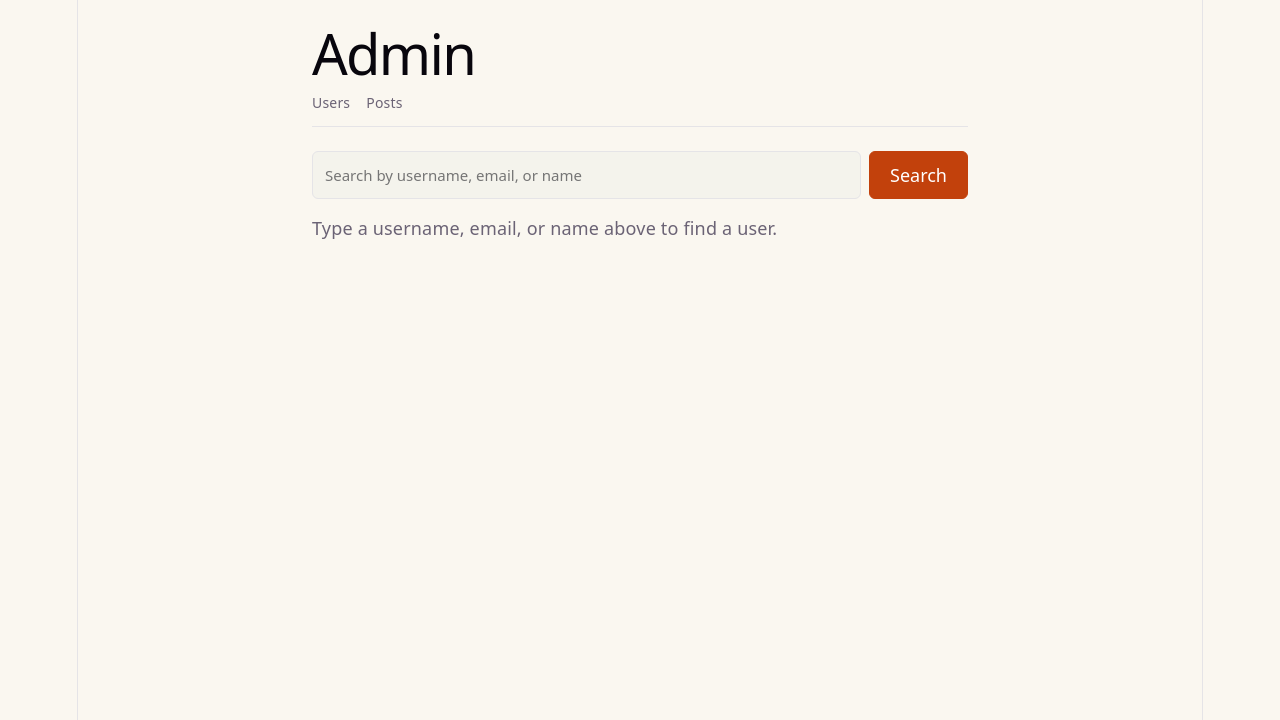
Test case: AdminUsers › disables the Block button on the admin's own row
Type "root" into the field named "Search users".
click(586, 175); type("root")  # box x1=312 y1=151 x2=861 y2=199
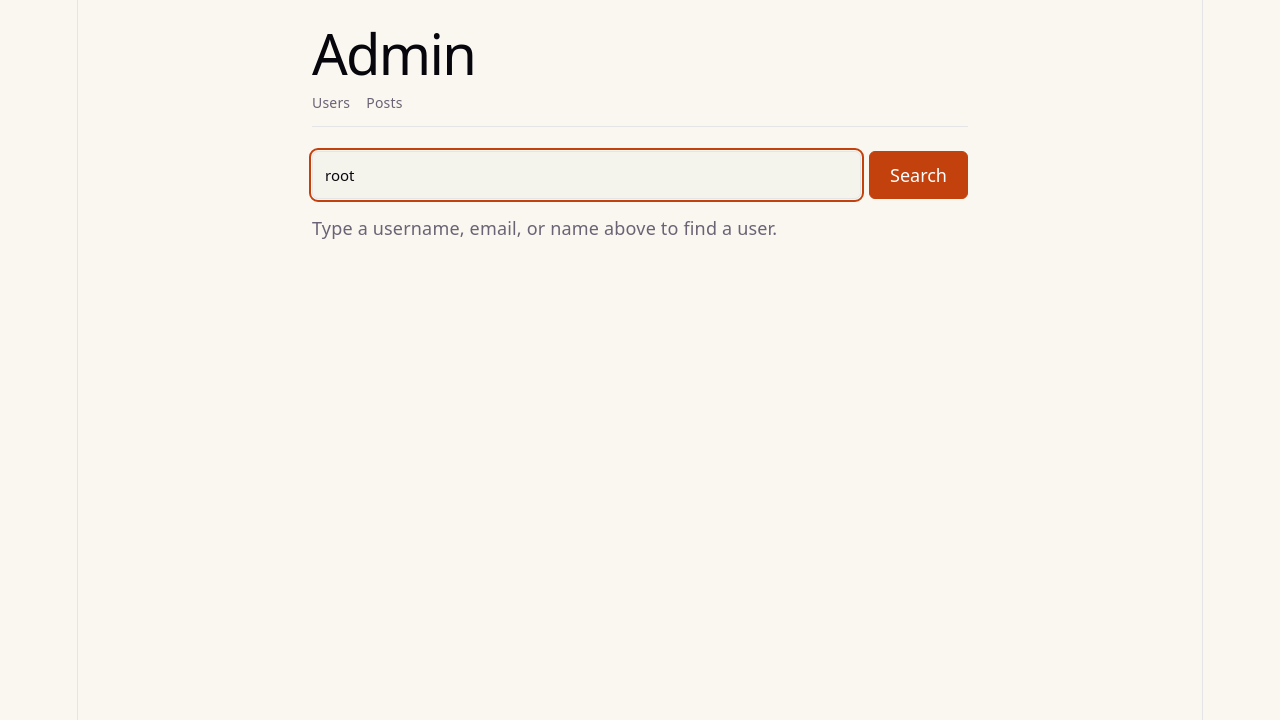
Click the button "Search".
click(918, 175)  # box x1=869 y1=151 x2=968 y2=199
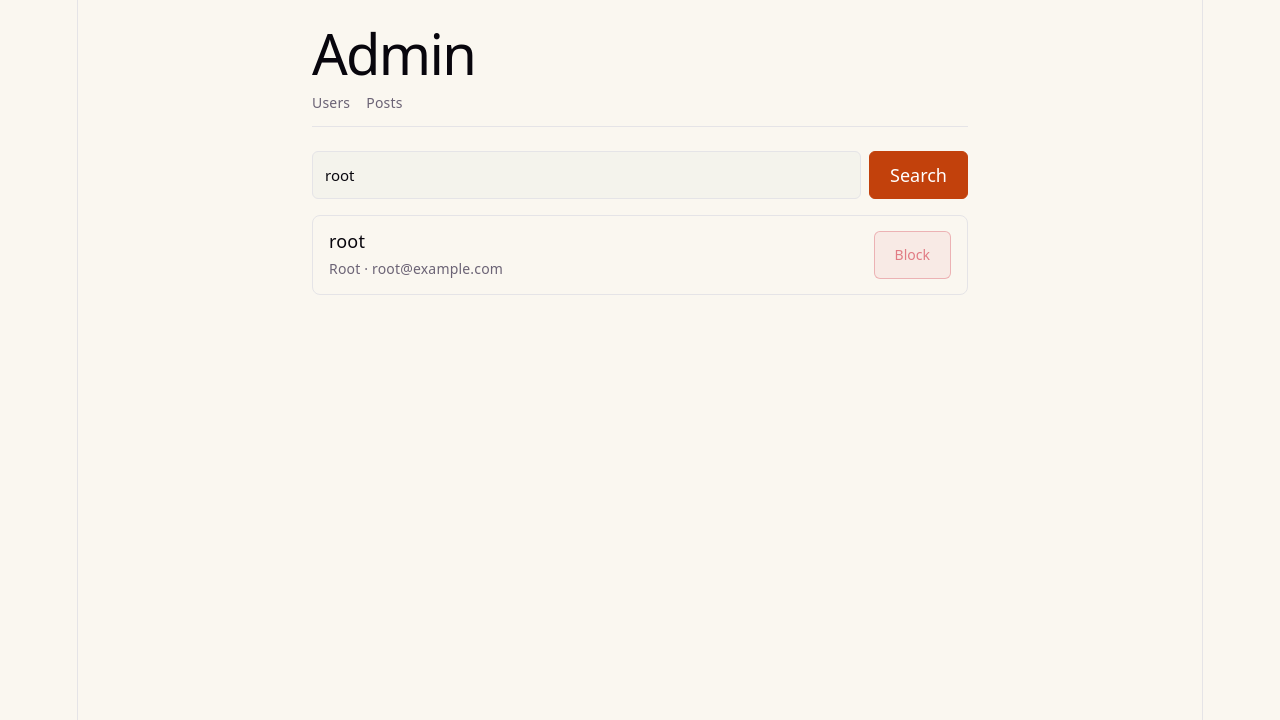
Expected: the button "Block" is disabled, x1=874 y1=231 x2=951 y2=279
